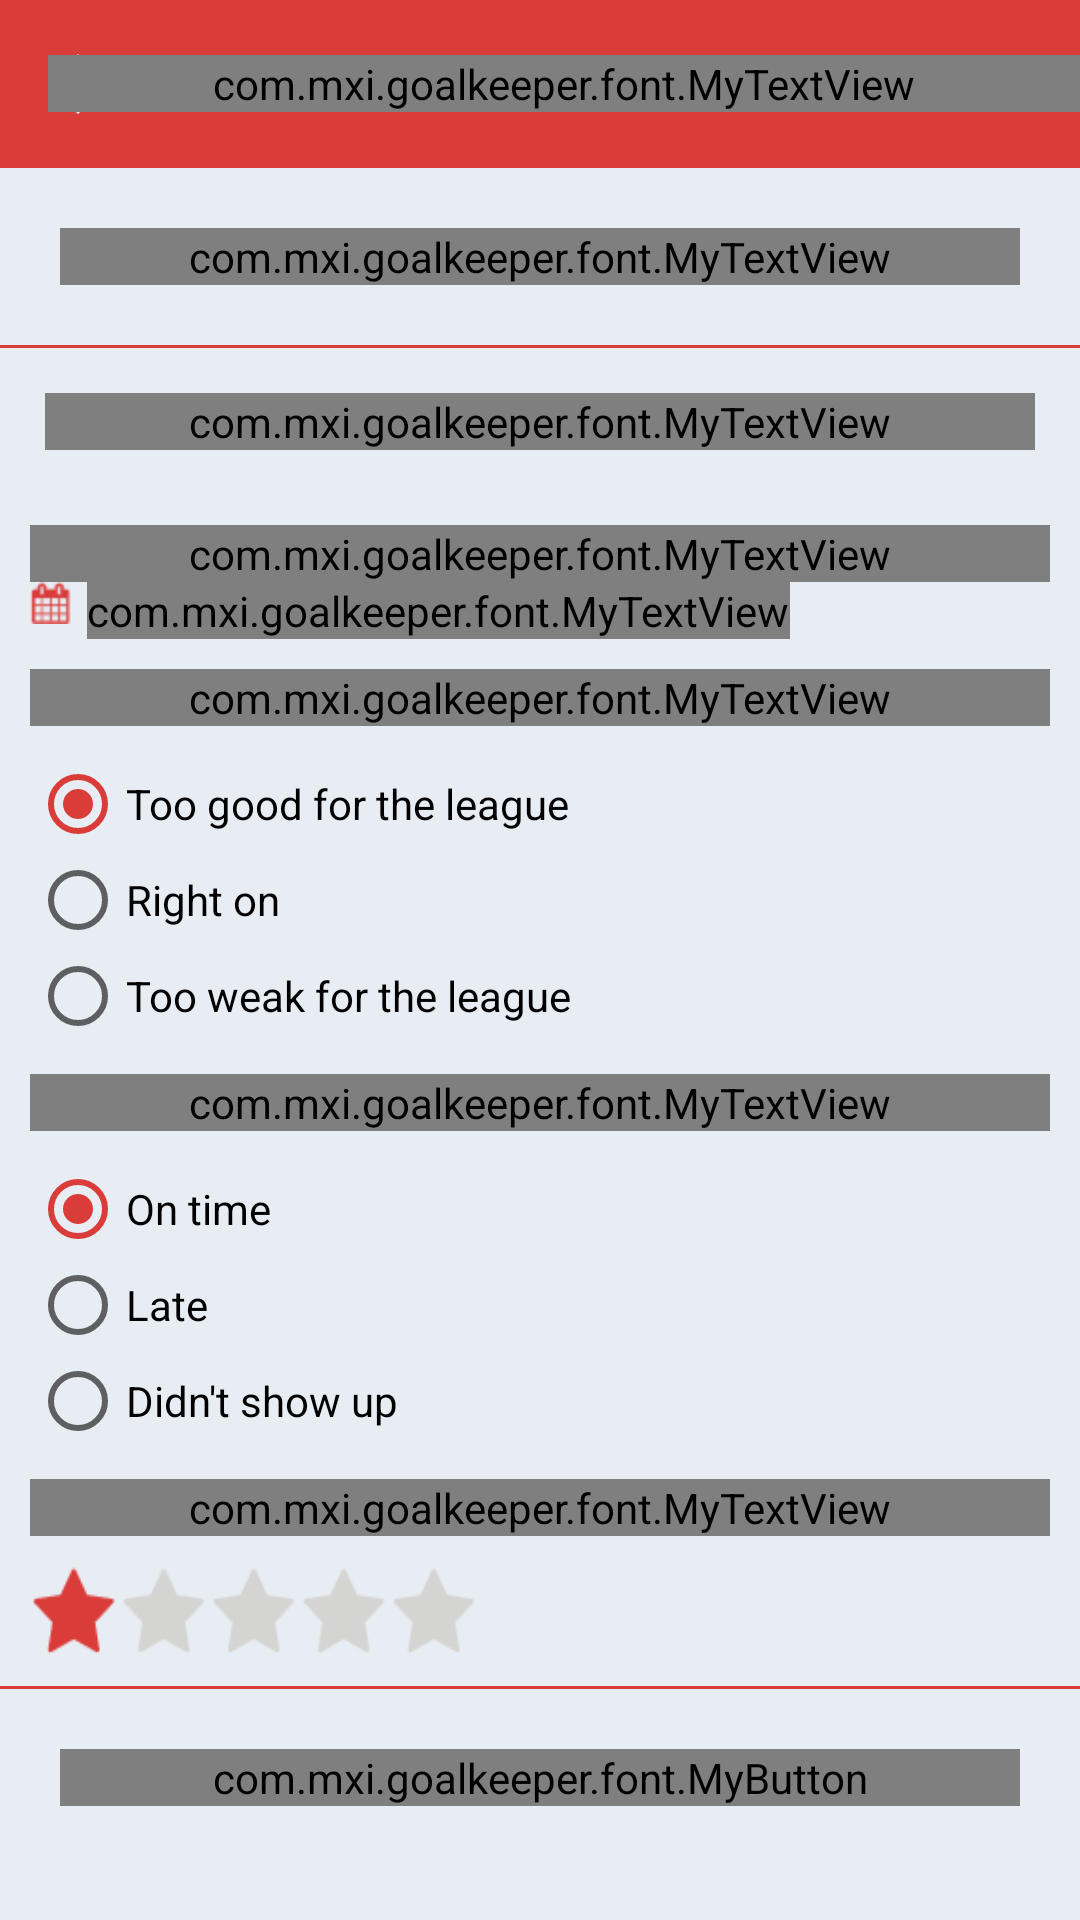

Named icons in this screenshot (1080x1920) and their bounding boxes, box(x1, y1, x2, y2):
calendra: box(31, 582, 71, 624)
star: box(33, 1568, 115, 1653), box(124, 1570, 203, 1651), box(214, 1570, 293, 1651), box(304, 1570, 383, 1651), box(394, 1570, 473, 1651)
